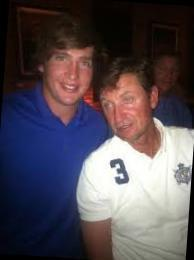Drunk: (102, 76, 150, 141), (50, 48, 94, 104)
